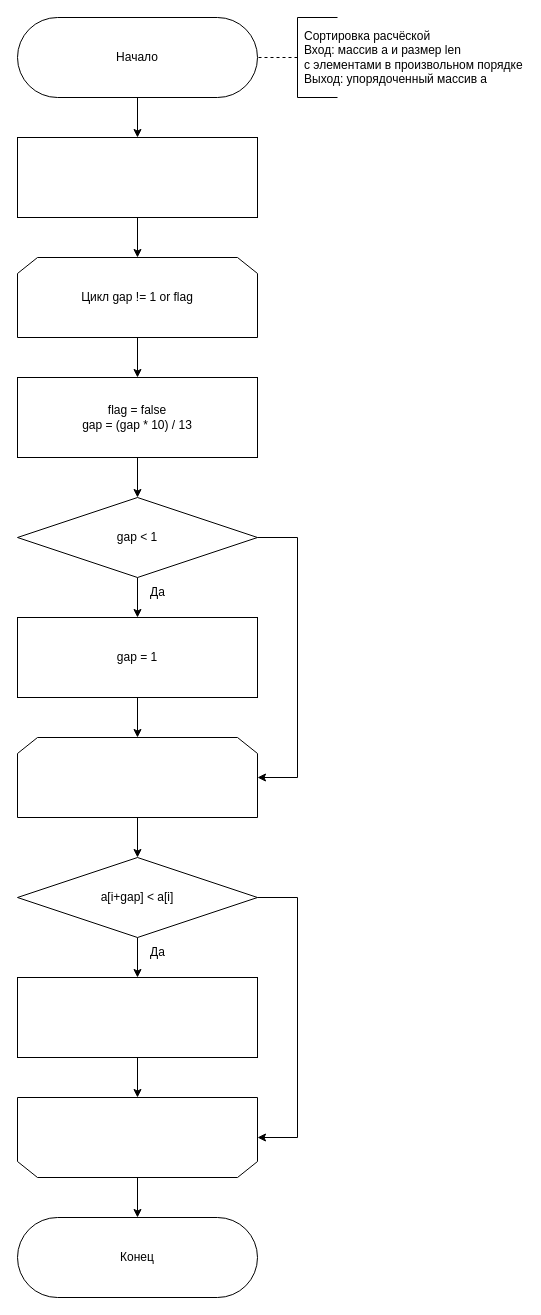
Image size: 541x1315. Some labels were removed from this diagram. The centre of each missing label's shape, as x and y in pixels:
"gap = len flag = false" belongs at (x=137, y=177).
"i++" belongs at (x=137, y=1137).
"tmp = a[i+gap] a[i+gap] = a[i] a[i] = tmp flag = true" belongs at (x=137, y=1017).
"Цикл i = 0; i < len - gap" belongs at (x=137, y=777).
